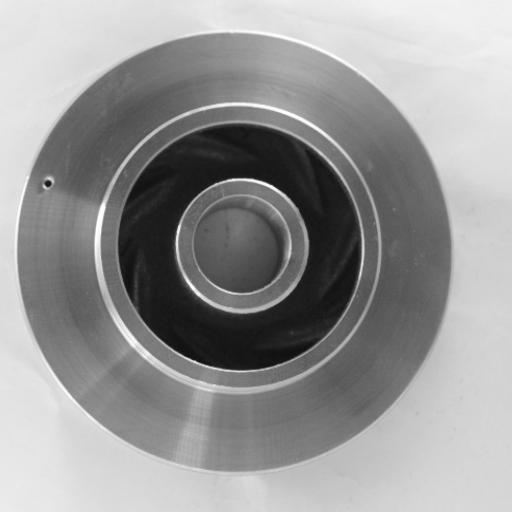pit: (37, 171, 61, 196)
unpolished_casting: (17, 30, 452, 475)
